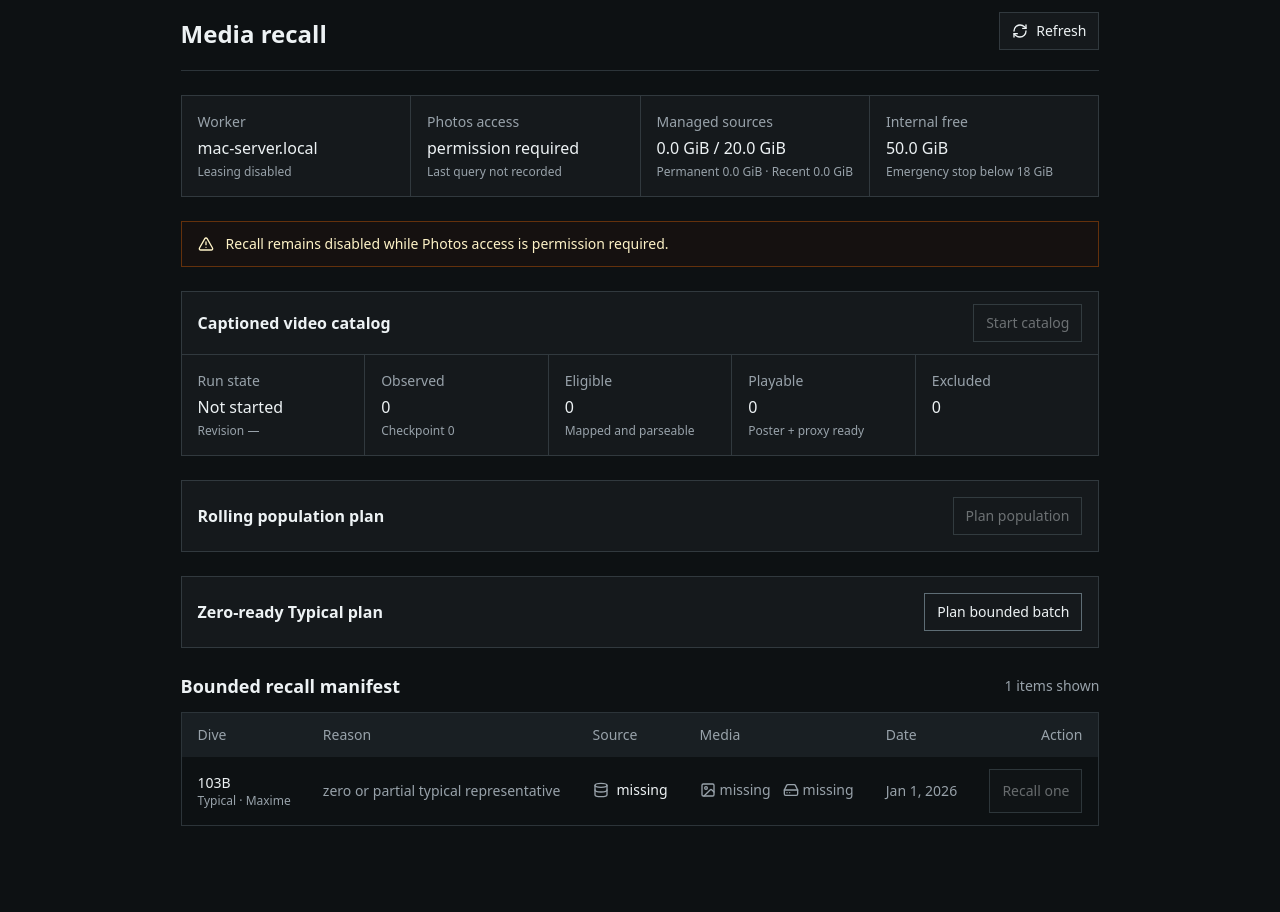
Scenario: MediaRecall › plans a bounded batch without passive work
The width and height of the screenshot is (1280, 912).
Step 1. Click the button "Plan bounded batch" → {"x": 1003, "y": 612}, box x1=924 y1=593 x2=1082 y2=631
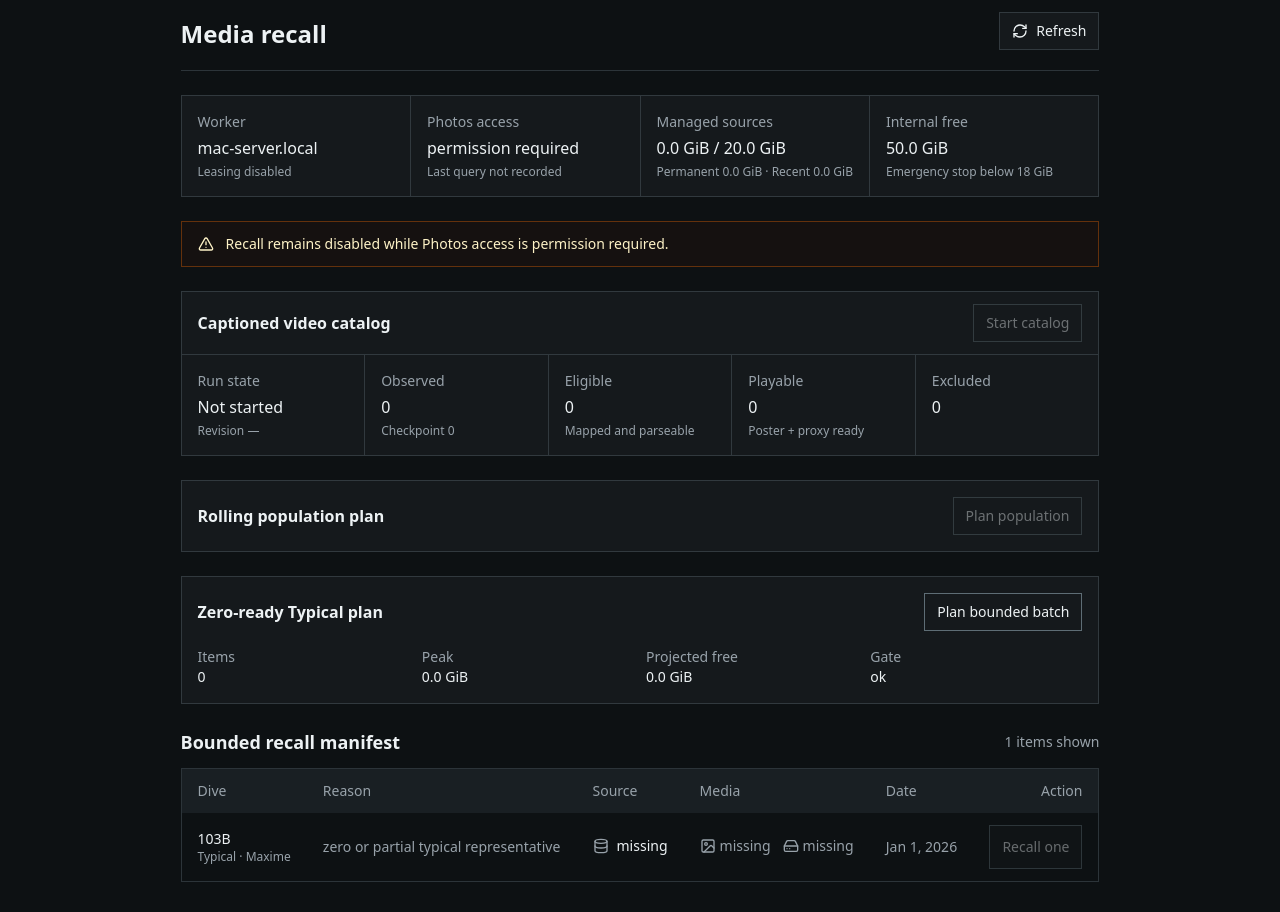
Check: the text "Gate" is shown, box x1=870 y1=647 x2=901 y2=666
